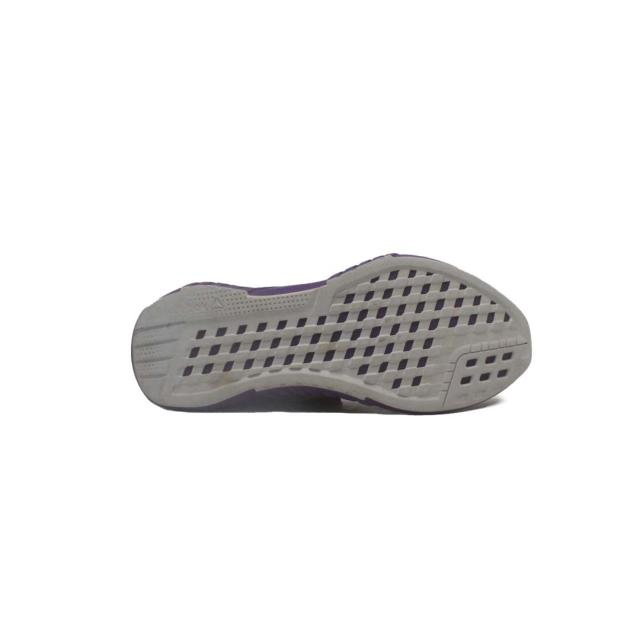outersole: (133, 252, 534, 411)
